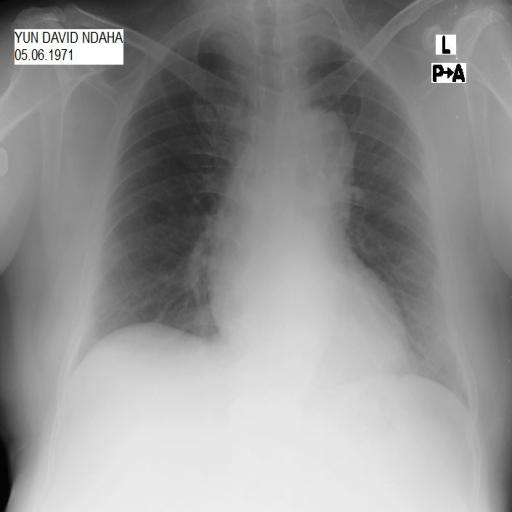kardiomegali: (58, 4, 486, 428)
